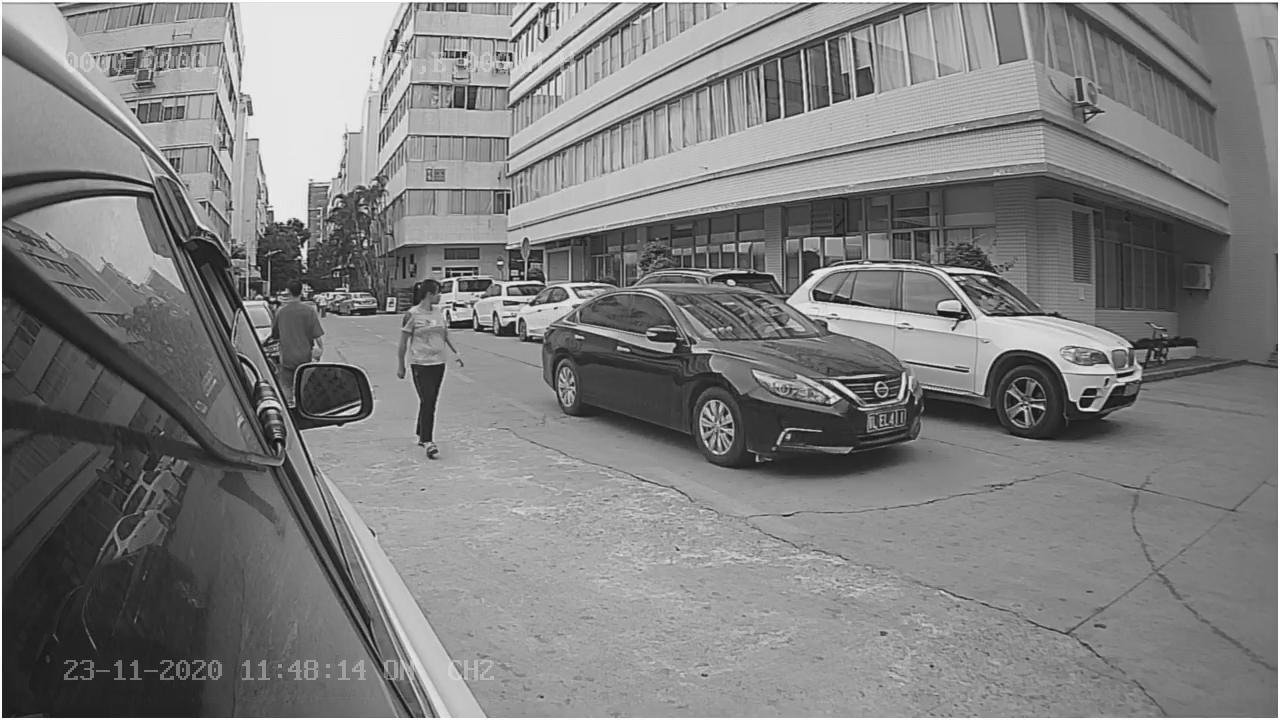person: (399, 279, 462, 457)
